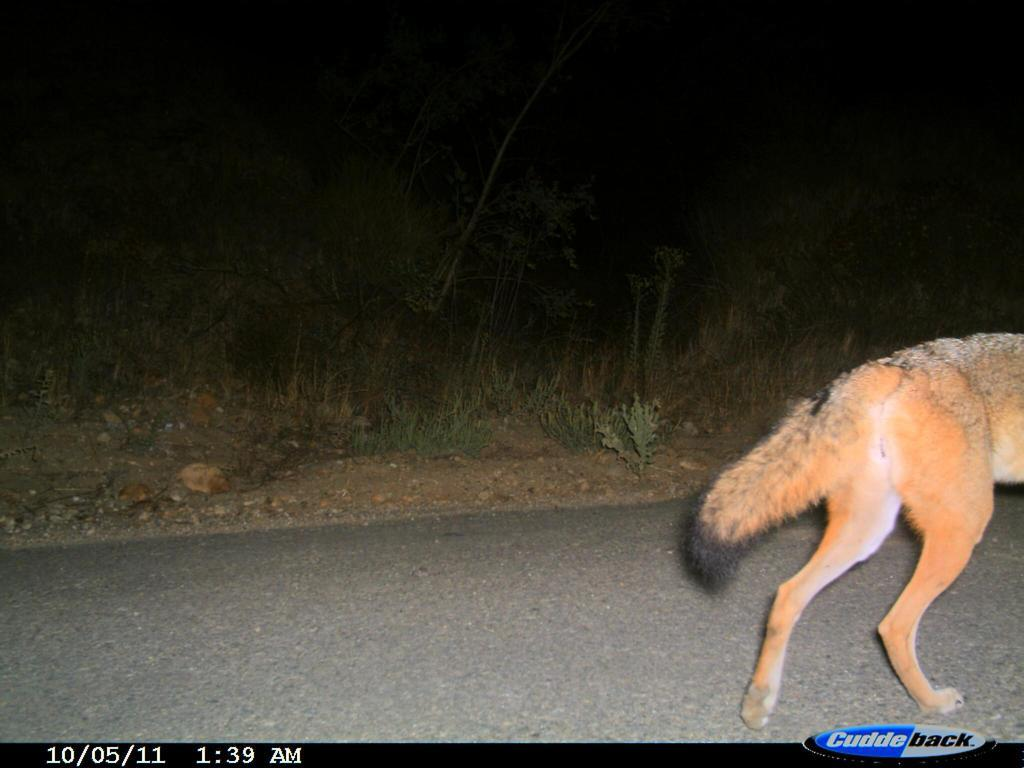coyote: (675, 333, 1022, 737)
